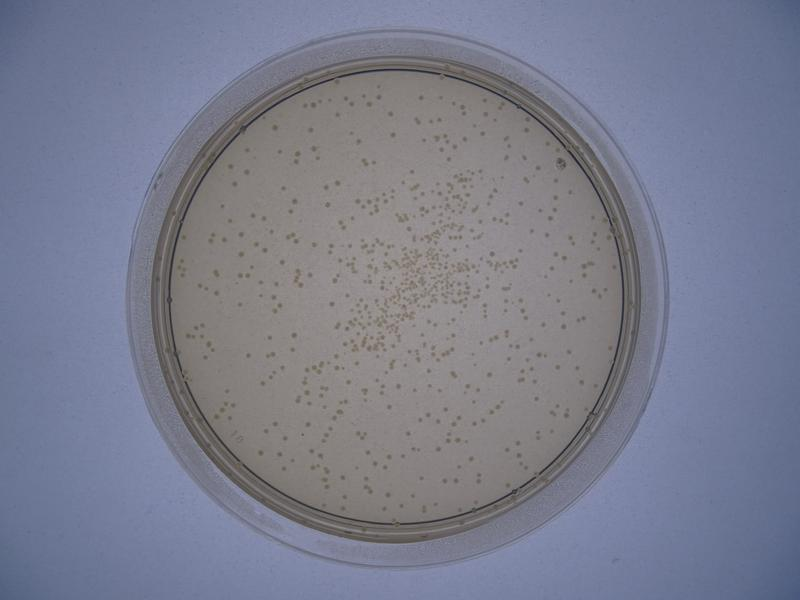colony: (270, 419, 284, 429), (416, 471, 427, 483), (308, 237, 318, 250), (558, 322, 568, 334), (288, 329, 299, 339), (387, 128, 397, 139), (243, 349, 252, 361), (384, 402, 394, 412), (276, 257, 286, 267), (235, 249, 246, 258), (567, 187, 576, 197), (327, 300, 337, 309), (277, 184, 288, 192), (417, 93, 426, 102), (542, 230, 551, 239), (247, 209, 255, 219), (334, 177, 341, 188), (478, 130, 487, 138), (343, 377, 352, 385), (486, 370, 493, 379), (323, 200, 330, 208)
